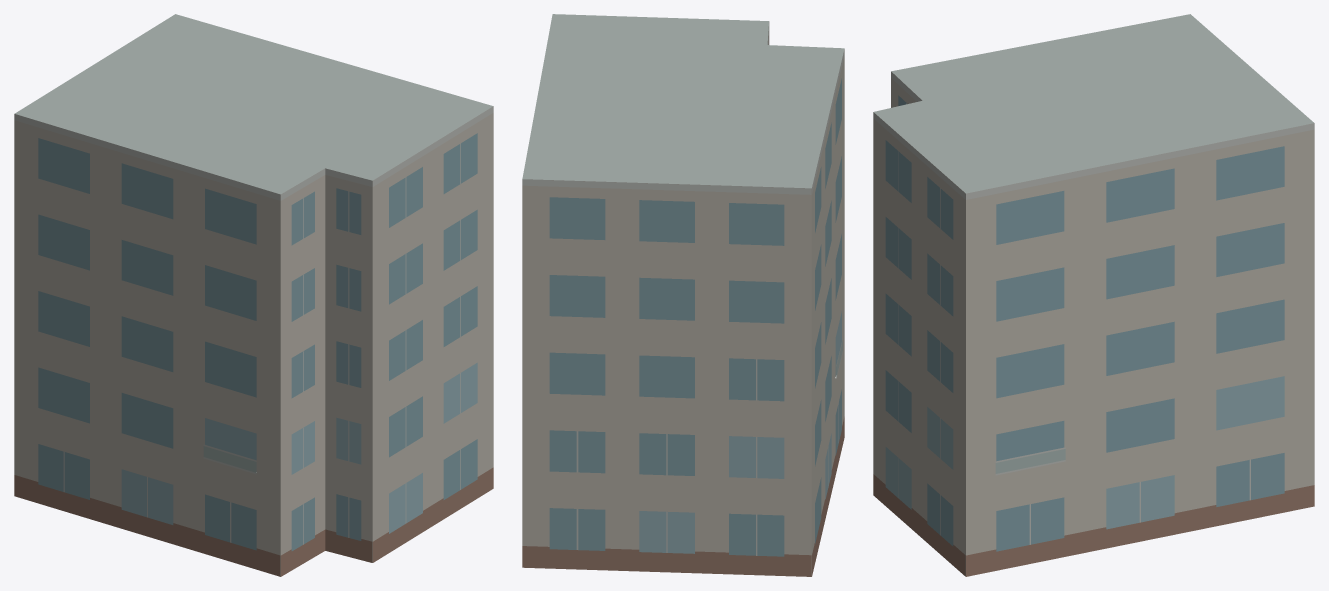
File: survey-upis-32497874.glb
The picture shows the model from 3 angles, left to right: view 1: azimuth 30°, elevation 25°; view 2: azimuth 150°, elevation 25°; view 3: azimuth 270°, elevation 25°; orthographic projection.
Visible parts, largest first — view 1: survey-upis-32497874.tmp; view 2: survey-upis-32497874.tmp; view 3: survey-upis-32497874.tmp.
Part boxes in pixels (left/top/right/bottom): survey-upis-32497874.tmp: left=14, top=14, right=493, bottom=576; survey-upis-32497874.tmp: left=522, top=14, right=844, bottom=576; survey-upis-32497874.tmp: left=873, top=14, right=1314, bottom=576.
Size of the model in its own units: 14.58 by 14.5 by 15.14.
